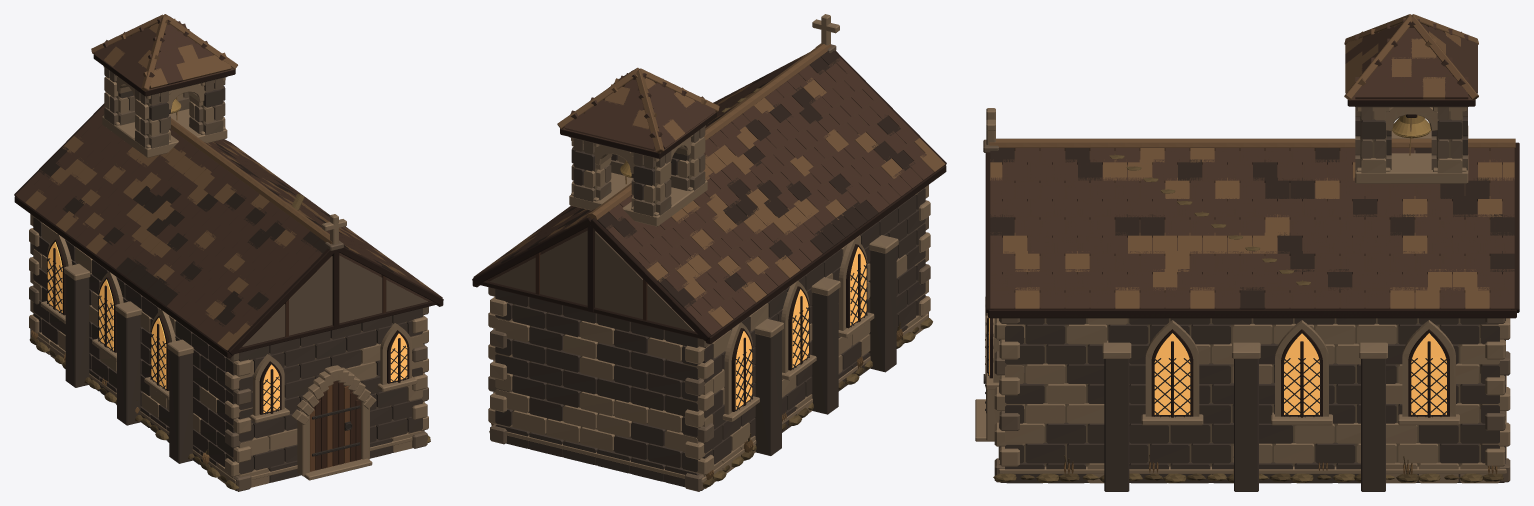
The model's file is chapel_sunken.glb.
3 renders of one model, left to right at view 1: azimuth 30°, elevation 25°; view 2: azimuth 150°, elevation 25°; view 3: azimuth 270°, elevation 25°, orthographic. The views are drawn at different scales.
Parts seen in each view (by area): view 1: Detailed structure surfaces; view 2: Detailed structure surfaces; view 3: Detailed structure surfaces.
Part boxes in pixels (bbox=[...]): Detailed structure surfaces: bbox=[14, 14, 443, 491]; Detailed structure surfaces: bbox=[472, 14, 946, 491]; Detailed structure surfaces: bbox=[975, 14, 1519, 491].
Size of the model in its own units: 7 by 10 by 12.
Materials: 1 (1 with a texture image).
